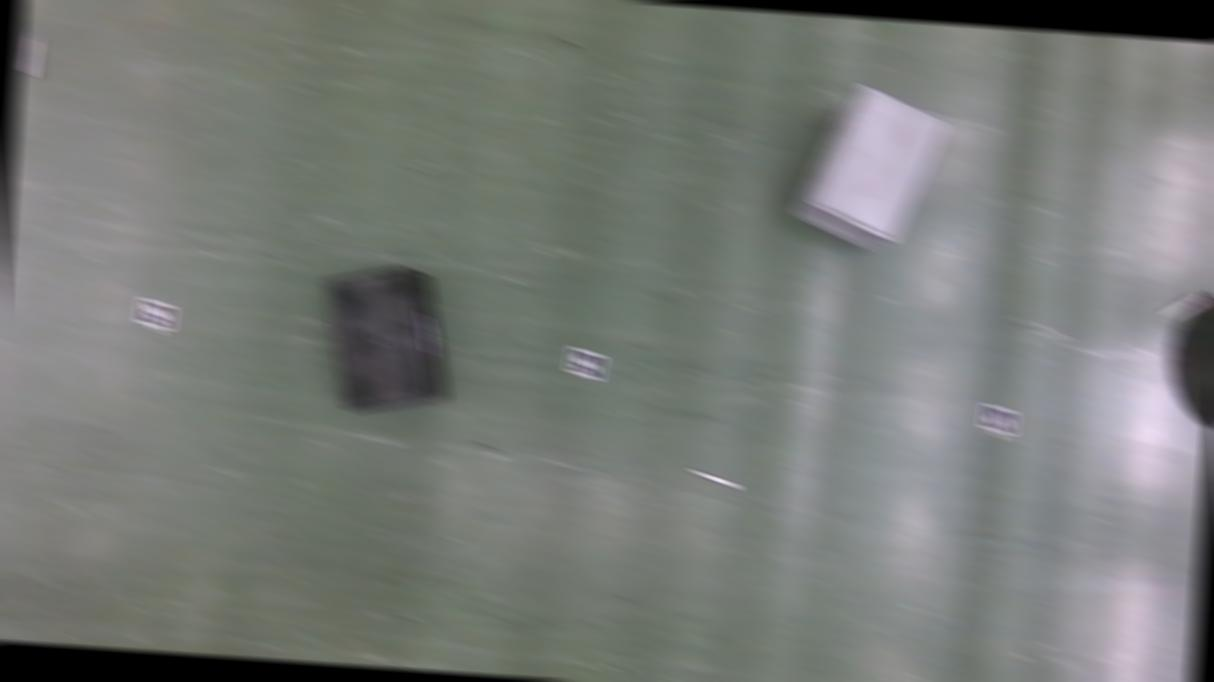probes: (1162, 288, 1210, 324), (21, 32, 40, 78), (692, 470, 738, 488)
rako: (789, 81, 950, 259), (316, 262, 456, 422)
